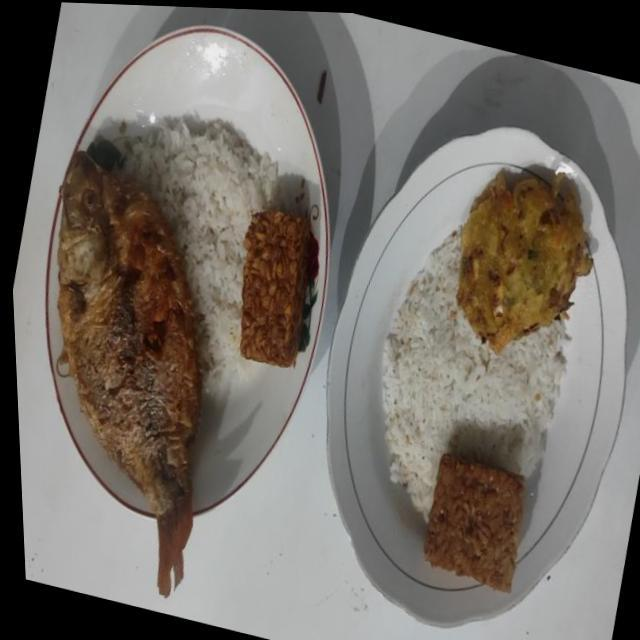ikan_mujair: (57, 152, 202, 596)
nasi_putih: (382, 226, 570, 518), (131, 116, 277, 400)
tempe_goreng: (423, 454, 524, 592), (240, 210, 310, 367)
